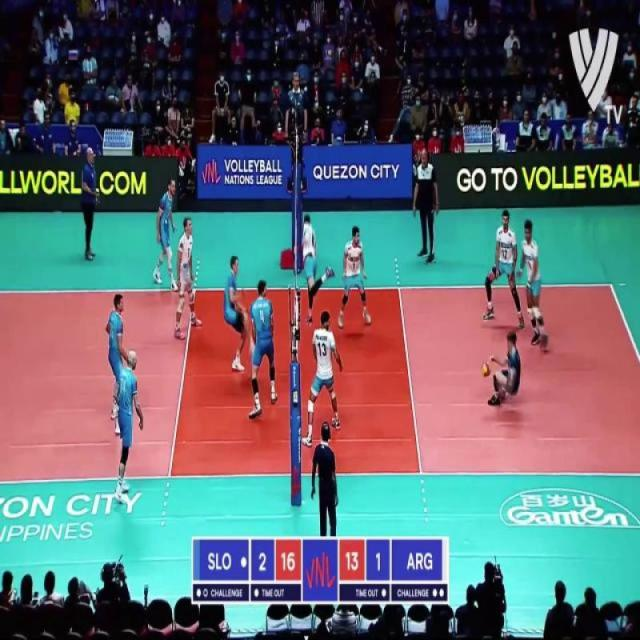volleyball: (481, 362, 491, 379)
